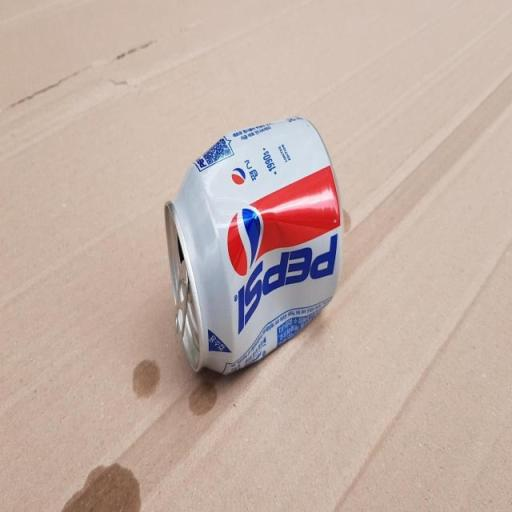metal: (108, 85, 397, 420)
